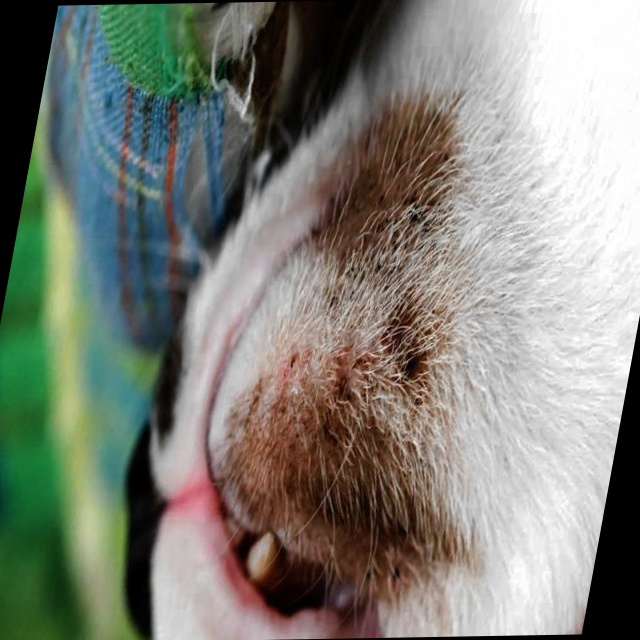acne: (318, 293, 453, 429)
